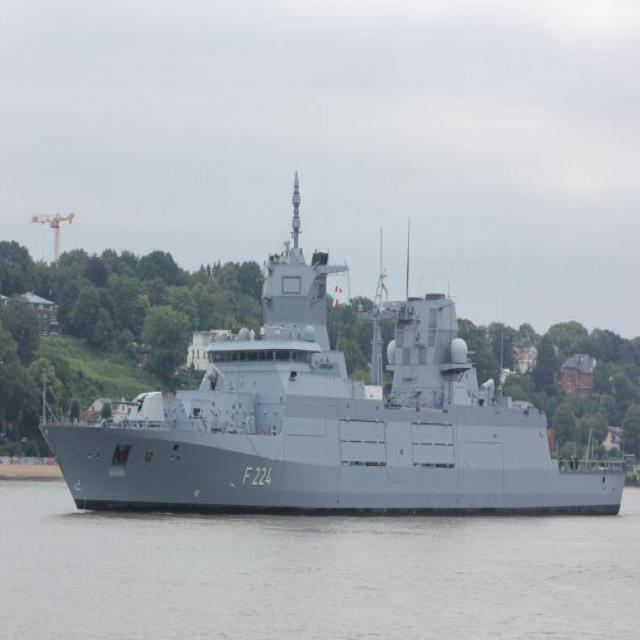Fragata: (34, 165, 627, 523)
